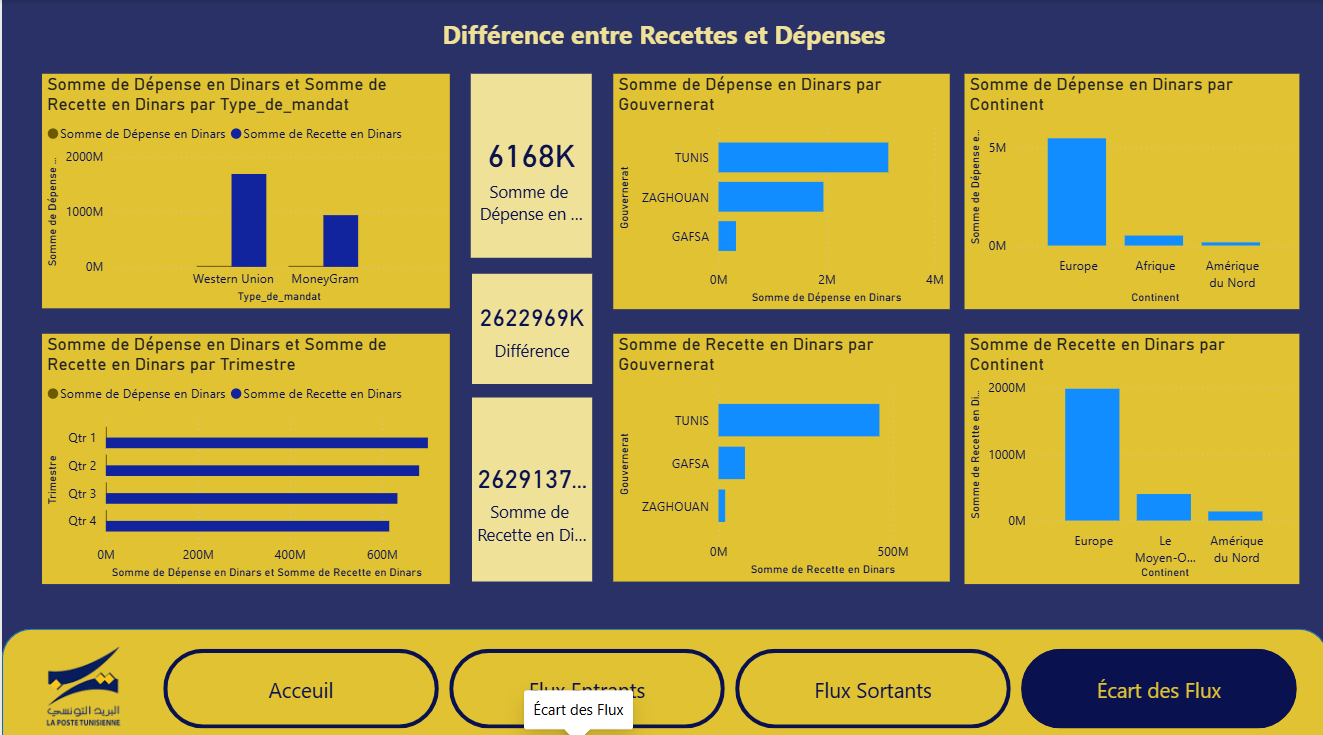

What the dashboard file says about the page in this screenshot:
{"tool":"powerbi","page":{"name":" Écart des Flux","canvas":[1280,720],"ordinal":3},"visuals":[{"type":"shape","box":[0,607.1,1280,112.9],"z":0},{"type":"image","box":[0,607.1,155.7,112.9],"z":1000},{"type":"pageNavigator","box":[155.7,625.7,1097.1,77.1],"z":2000},{"type":"textbox","box":[386.1,12.1,505.5,48.3],"z":3000},{"type":"clusteredColumnChart","fields":{"Category":["data_transaction csv.Type_de_mandat"],"Y":["Sum(data_transaction csv.Dépense en Dinars)","Sum(data_transaction csv.Recette en Dinars)"]},"box":[38.4,71.4,393.8,226.4],"z":4000},{"type":"clusteredBarChart","fields":{"Y":["Sum(data_transaction csv.Dépense en Dinars)"],"Category":["data_transaction csv.Gouvernerat"]},"box":[589.9,71.2,324.5,226.8],"z":5000},{"type":"clusteredColumnChart","fields":{"Category":["data_transaction csv.Continent"],"Y":["Sum(data_transaction csv.Dépense en Dinars)"]},"box":[929,71.2,323.3,226.8],"z":6000},{"type":"clusteredBarChart","fields":{"Y":["Sum(data_transaction csv.Dépense en Dinars)","Sum(data_transaction csv.Recette en Dinars)"],"Category":["data_transaction csv.DATE.Variation.Hiérarchie de dates.Trimestre","data_transaction csv.DATE.Variation.Hiérarchie de dates.Jour"]},"box":[38.4,322.5,393.8,241.5],"z":7000},{"type":"card","fields":{"Values":["Sum(data_transaction csv.Dépense en Dinars)"]},"box":[452.4,71.2,117,177.3],"z":8000},{"type":"card","fields":{"Values":["Sum(data_transaction csv.Recette en Dinars)"]},"box":[453.6,383.6,115.8,177.3],"z":9000},{"type":"clusteredBarChart","fields":{"Y":["Sum(data_transaction csv.Recette en Dinars)"],"Category":["data_transaction csv.Gouvernerat"]},"box":[589.9,322.1,324.5,238.9],"z":10000},{"type":"clusteredColumnChart","fields":{"Category":["data_transaction csv.Continent"],"Y":["Sum(data_transaction csv.Recette en Dinars)"]},"box":[929,322.1,323.3,241.3],"z":11000},{"type":"card","fields":{"Values":["data_transaction csv.Différence"]},"box":[453.8,263.8,116.2,106.2],"z":12000}]}

Visuals, with their boxes in screenshot pixels (x1, y1, x2, y2), scaled from the page's 1280x720 canvas onto the 1323x735 screenshot:
shape: (0, 620, 1322, 734)
image: (0, 620, 161, 734)
pageNavigator: (161, 639, 1295, 717)
textbox: (399, 12, 922, 62)
clusteredColumnChart - data_transaction csv.Type_de_mandat x Sum(data_transaction csv.Dépense en Dinars): (40, 73, 447, 304)
clusteredBarChart - Sum(data_transaction csv.Dépense en Dinars) x data_transaction csv.Gouvernerat: (610, 73, 945, 304)
clusteredColumnChart - data_transaction csv.Continent x Sum(data_transaction csv.Dépense en Dinars): (960, 73, 1294, 304)
clusteredBarChart - Sum(data_transaction csv.Dépense en Dinars) x Sum(data_transaction csv.Recette en Dinars): (40, 329, 447, 576)
card - Sum(data_transaction csv.Dépense en Dinars): (468, 73, 589, 254)
card - Sum(data_transaction csv.Recette en Dinars): (469, 392, 589, 573)
clusteredBarChart - Sum(data_transaction csv.Recette en Dinars) x data_transaction csv.Gouvernerat: (610, 329, 945, 573)
clusteredColumnChart - data_transaction csv.Continent x Sum(data_transaction csv.Recette en Dinars): (960, 329, 1294, 575)
card - data_transaction csv.Différence: (469, 269, 589, 378)
